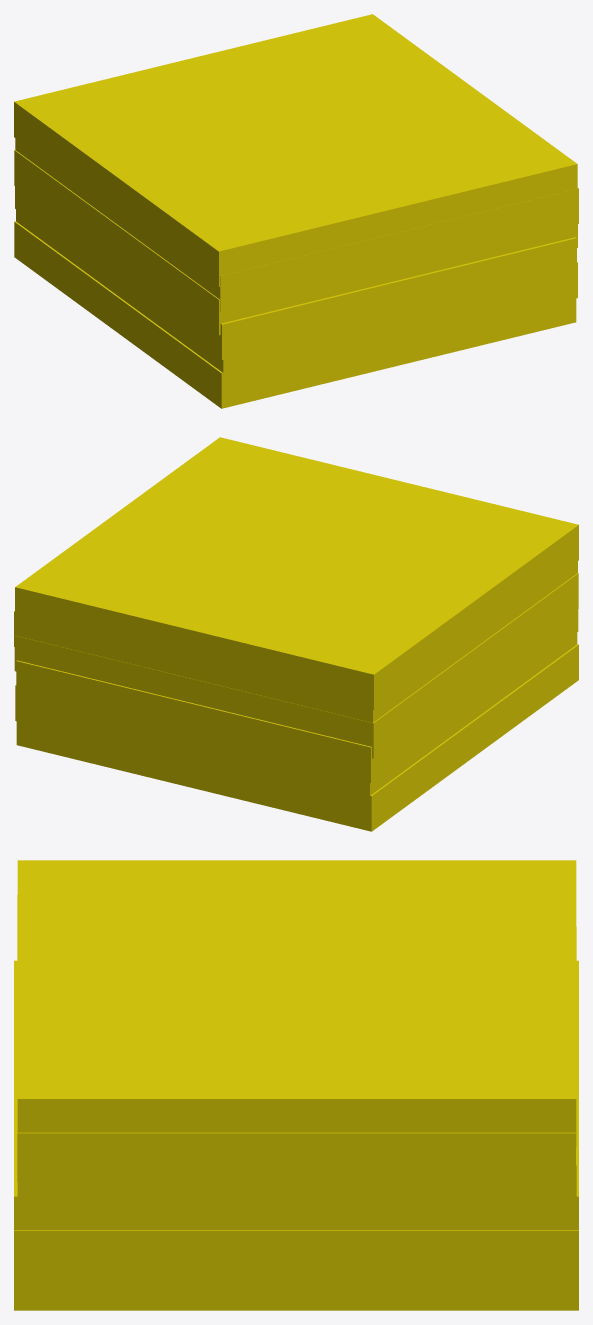
File: Wood_W_Pile_01_Lod1.fbx
3 views of the same model, one above another, from view 1: azimuth 30°, elevation 25°; view 2: azimuth 150°, elevation 25°; view 3: azimuth 270°, elevation 25° (orthographic). The views are drawn at different scales.
Parts seen in each view (by area): view 1: Wood_W_Pile_01_Lod1; view 2: Wood_W_Pile_01_Lod1; view 3: Wood_W_Pile_01_Lod1.
Part boxes in pixels (x1,y1,x2,y2): Wood_W_Pile_01_Lod1: (14,14,578,408); Wood_W_Pile_01_Lod1: (14,437,578,831); Wood_W_Pile_01_Lod1: (14,860,578,1310).
Bounding box in the file's own units: 306 × 127 × 305.
